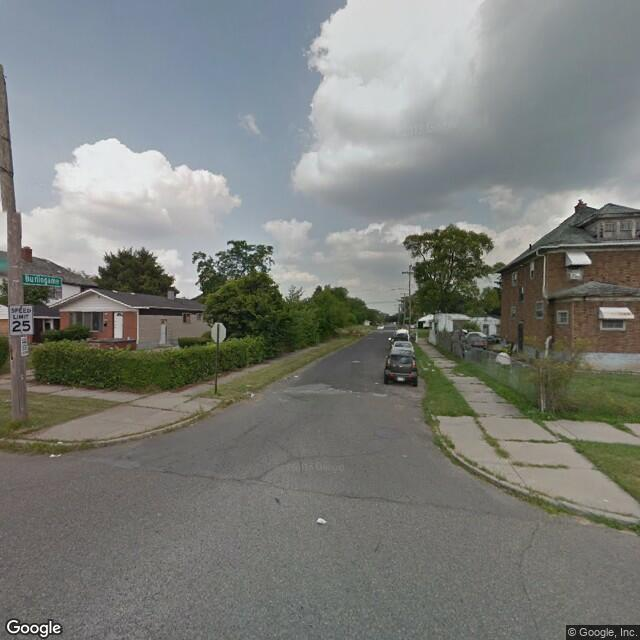litter: (47, 452, 62, 459), (317, 517, 326, 525), (249, 390, 255, 400), (293, 373, 299, 379), (284, 377, 288, 381)
